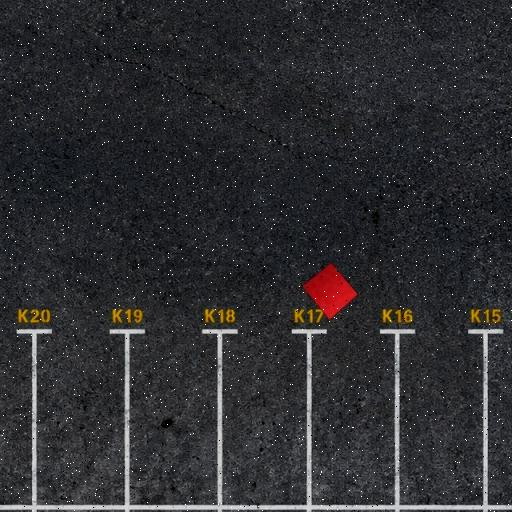RED_SQUARE: (301, 262, 358, 321)
